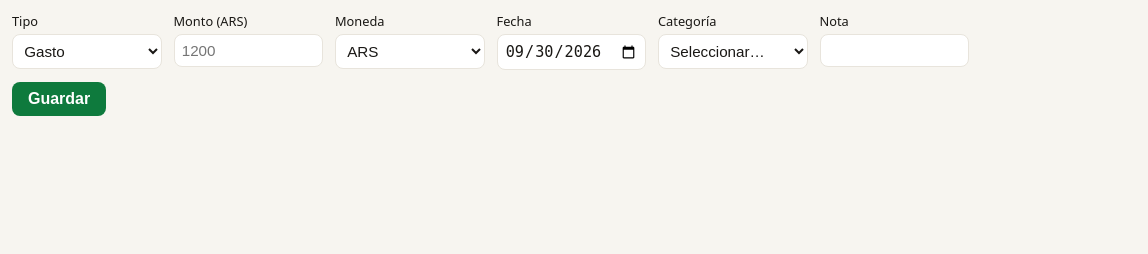
Test: TransactionForm › shows the FX rate field and requires it for USD (ET-1)
This screenshot has width=1148, height=254.
Select "USD" in the dropdown with test id "currency" at (410, 52), box [335, 34, 484, 69]
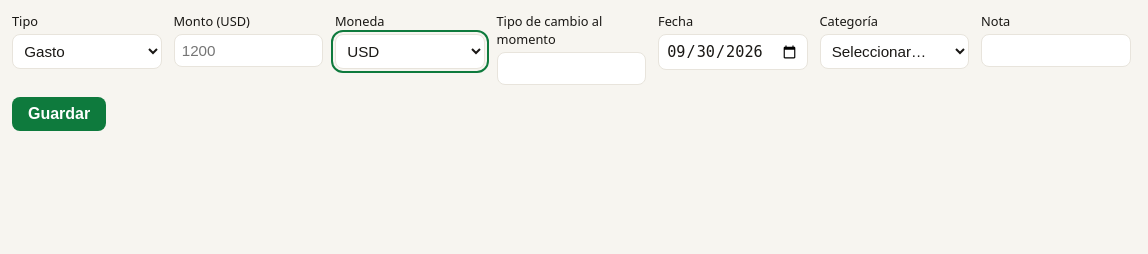
Now the field with test id "rate" is shown, box [496, 52, 646, 85]
Type "25" into the field with test id "amount" at (248, 51), box [174, 34, 323, 67]
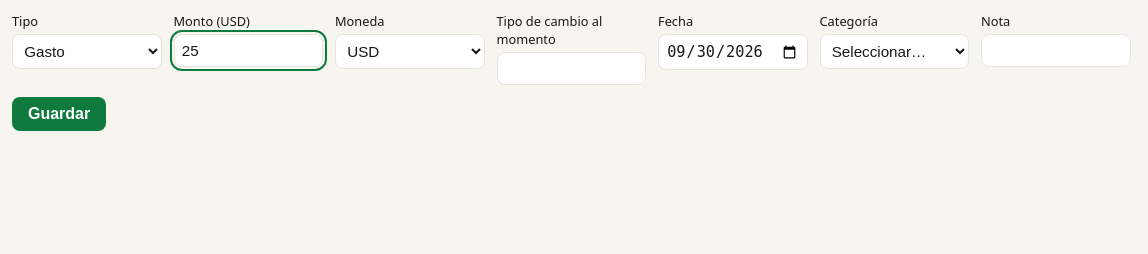
Select "Food" in the dropdown with test id "category" at (894, 52), box [820, 34, 969, 69]
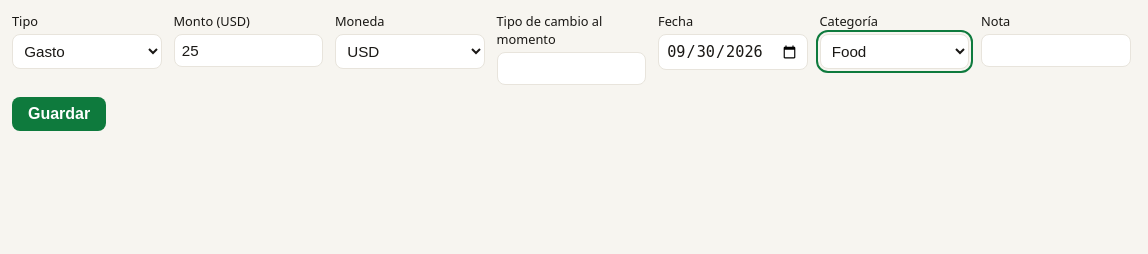
Click the button with test id "submit" at (59, 114), box [12, 97, 106, 131]
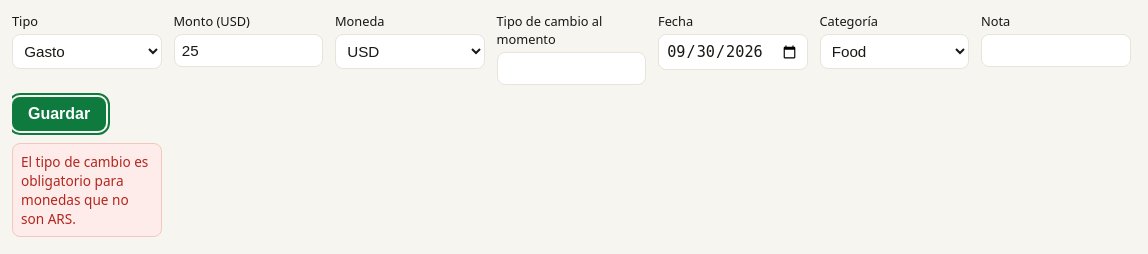
Now the text "El tipo de cambio es obligatorio para monedas que no son ARS." is shown, box [21, 152, 152, 228]
